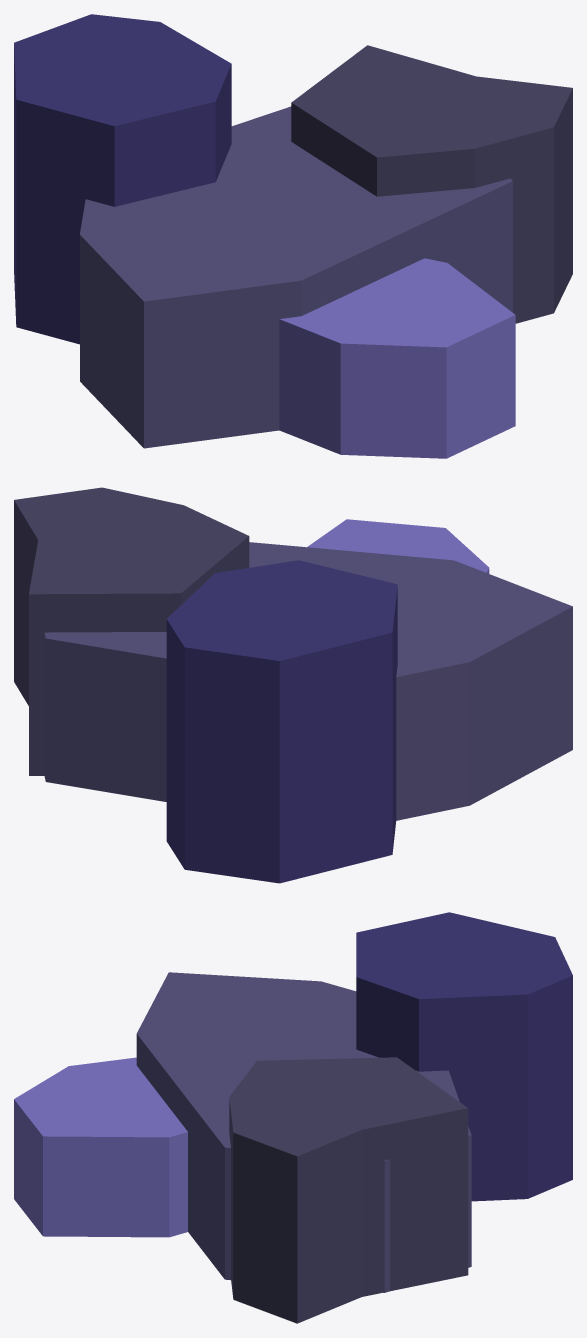
File: VL_Stone01.fbx
3 renders of one model, top to bottom at view 1: azimuth 30°, elevation 25°; view 2: azimuth 150°, elevation 25°; view 3: azimuth 270°, elevation 25°, orthographic. The views are drawn at different scales.
Parts seen in each view (by area): view 1: VL_Stone01; view 2: VL_Stone01; view 3: VL_Stone01.
Part boxes in pixels (left/top/right/bottom): VL_Stone01: left=14, top=14, right=572, bottom=458; VL_Stone01: left=14, top=487, right=572, bottom=883; VL_Stone01: left=14, top=912, right=572, bottom=1323.
Size of the model in its own units: 62.33 by 27.08 by 67.09.
1 material, 1 textured.
